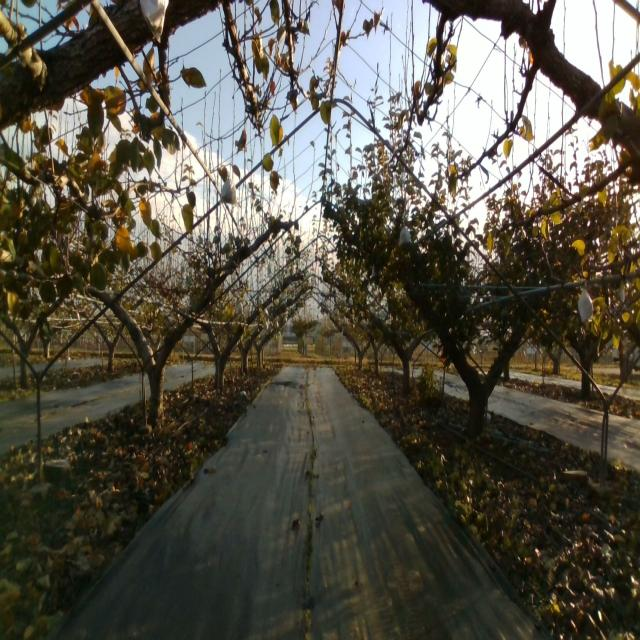pearbags: (578, 288, 594, 325), (220, 174, 237, 206), (398, 227, 412, 247)
